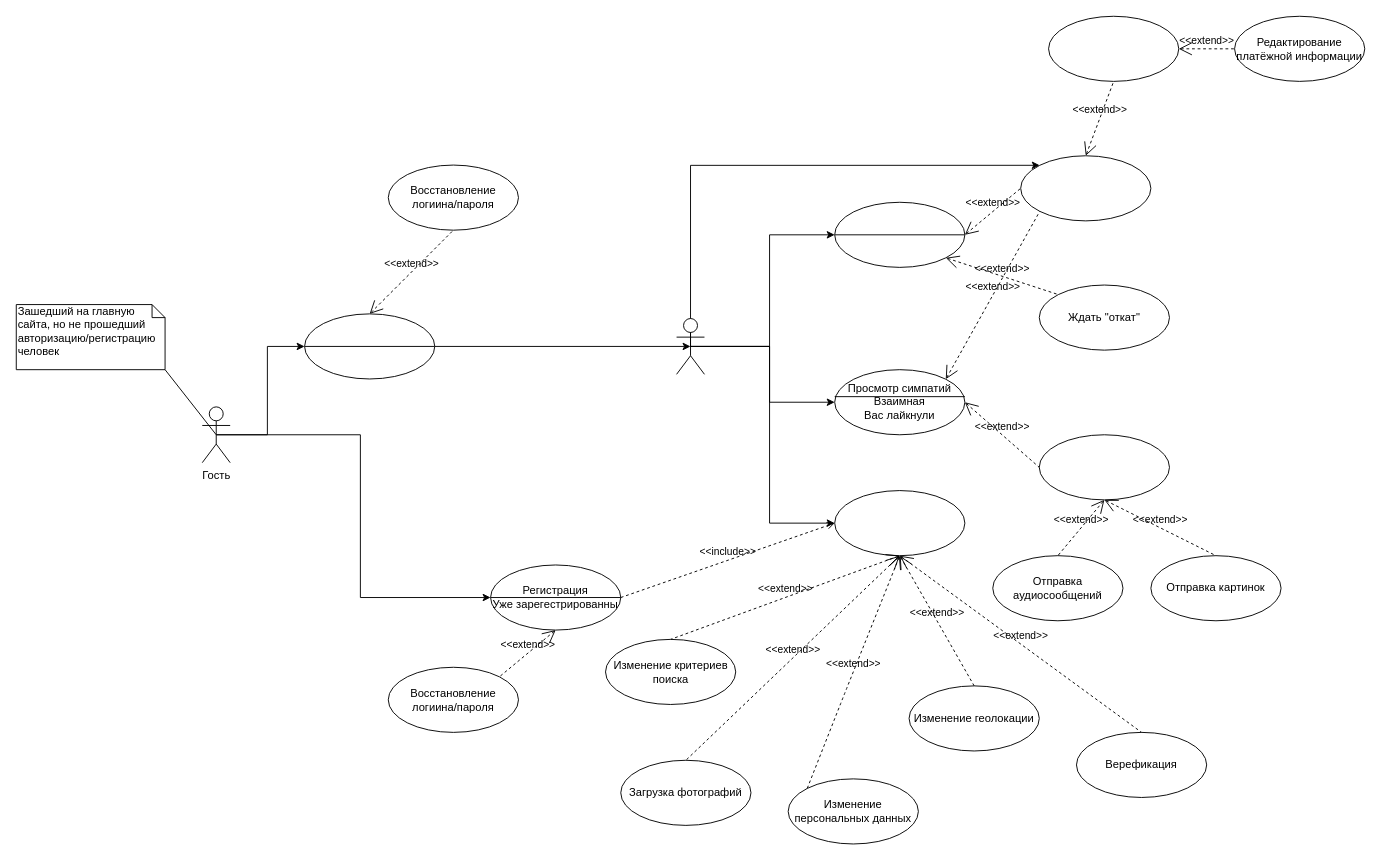
Some shapes in this 1381 by 860 pixel diagram are drawn without their labels. The centre of each missing label's shape, as x and y in pixels:
Авторизация Неверные данные: (x=369, y=346)
Ввод плаётжной информации: (x=1113, y=48)
Купить премиум: (x=1085, y=188)
Отправка текстовых сообщений: (x=1103, y=467)
Пользователь: (x=690, y=346)
Просмотр анкет Закончились лайки: (x=899, y=234)
Редактировать профиль: (x=899, y=523)
